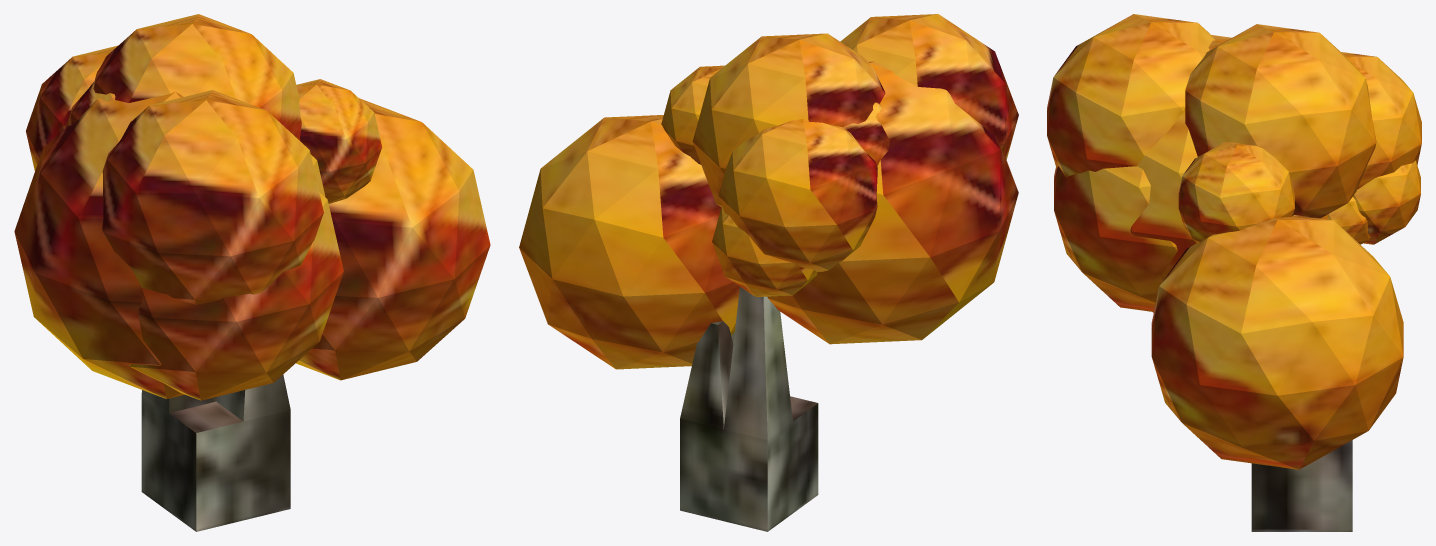
File: Tree7.fbx
3 views of the same model, side by side, from view 1: azimuth 30°, elevation 25°; view 2: azimuth 150°, elevation 25°; view 3: azimuth 270°, elevation 25° (orthographic). The views are drawn at different scales.
Parts seen in each view (by area): view 1: Tree 7; view 2: Tree 7; view 3: Tree 7.
Part boxes in pixels (<box>): Tree 7: <box>14,14,490,531</box>; Tree 7: <box>519,14,1018,531</box>; Tree 7: <box>1047,14,1421,531</box>.
Size of the model in its own units: 741 by 991 by 1006.
